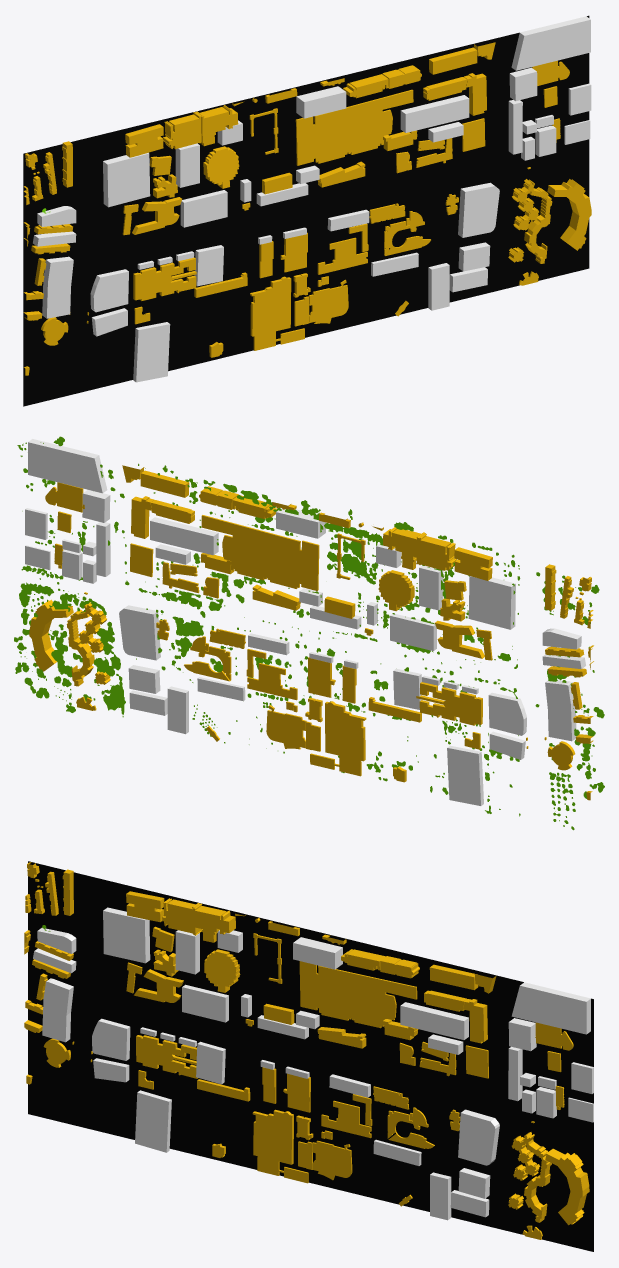
File: new_low_buildings_09.glb
The picture shows the model from 3 angles, top to bottom: view 1: azimuth 30°, elevation 25°; view 2: azimuth 150°, elevation 25°; view 3: azimuth 330°, elevation 25°; orthographic projection.
Parts seen in each view (by area): view 1: Layer 04, existing_building - Copy, new buildings; view 2: existing_building - Copy, new buildings, treesurface; view 3: Layer 04, existing_building - Copy, new buildings.
Part boxes in pixels (x1,y1,x2,y2): Layer 04: (23, 15, 589, 406); existing_building - Copy: (23, 42, 591, 375); new buildings: (33, 16, 591, 382); existing_building - Copy: (29, 465, 593, 800); new buildings: (25, 439, 585, 805); treesurface: (14, 436, 604, 830); Layer 04: (28, 861, 593, 1251); existing_building - Copy: (24, 862, 589, 1239); new buildings: (33, 907, 593, 1220).
Size of the model in its own units: 1035 by 458 by 24.19.
